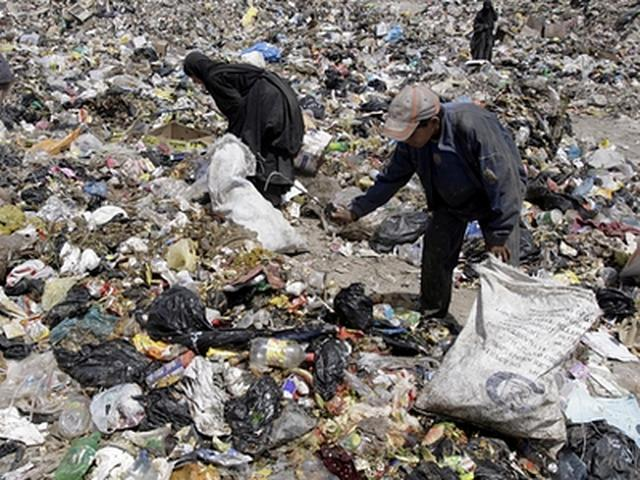garbage: (19, 11, 177, 457)
